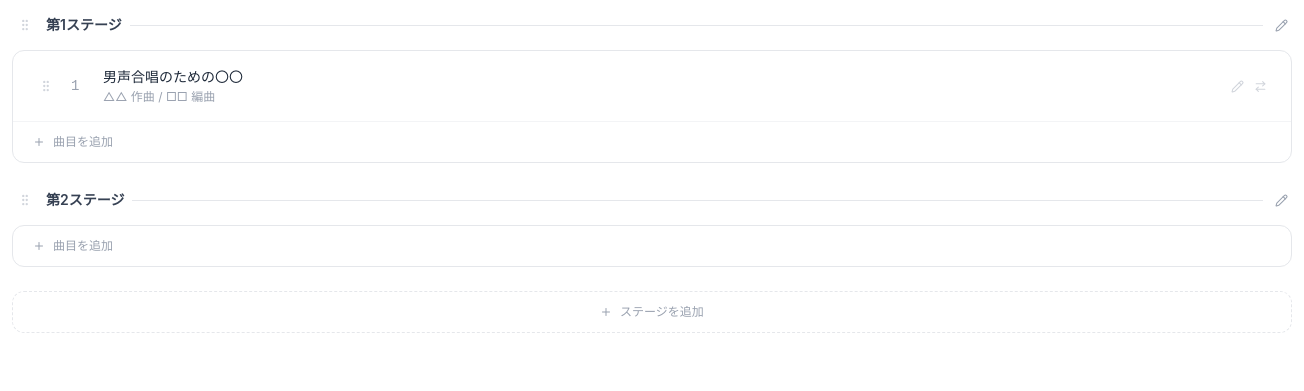
Test case: StagesTab（ステージ名インライン編集） › 保存に失敗したら入力欄の下に理由を出し、入力した名前を残す
The image size is (1304, 391).
Click the button named "第1ステージの名前を編集" at (1282, 25), box top-left (1271, 14), bottom-right (1292, 36)
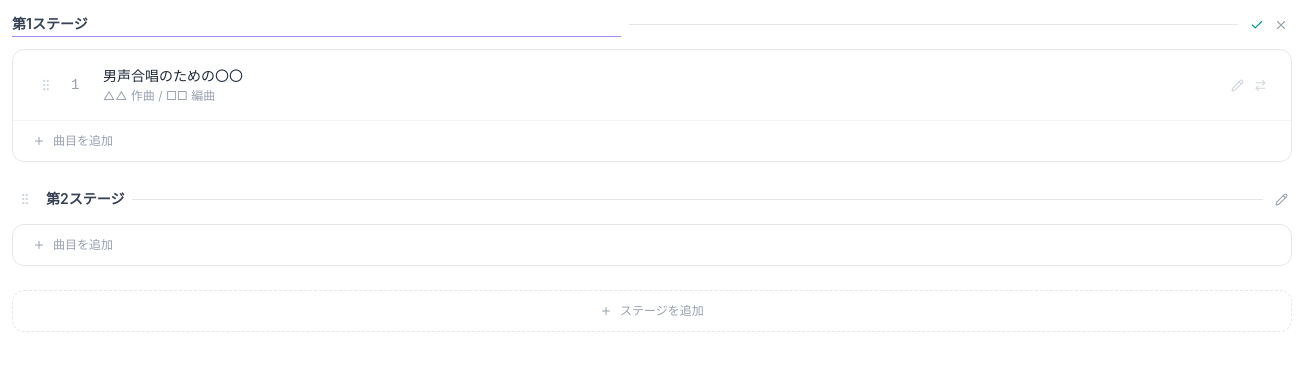
Type "改" into the field named "ステージ名" at (316, 24), box top-left (12, 12), bottom-right (621, 37)
Then press Enter
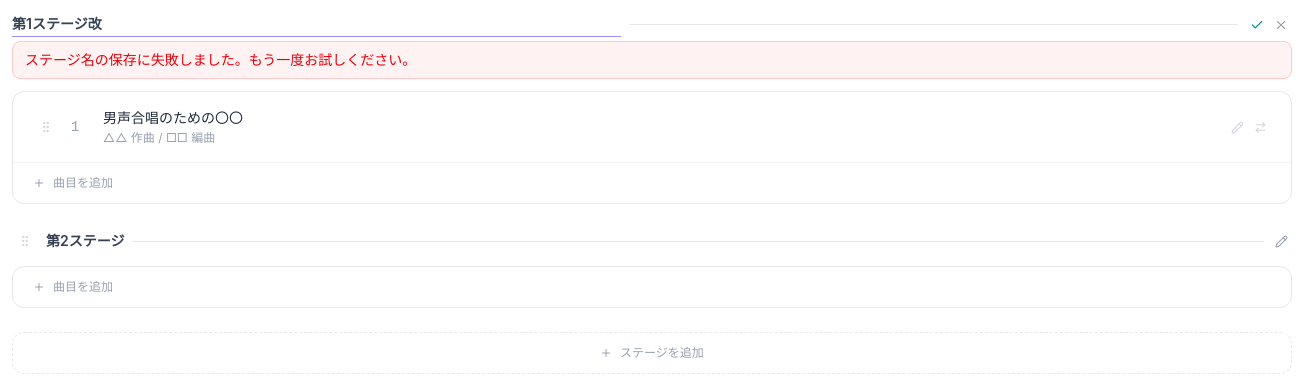
Expected: the message reads "ステージ名の保存に失敗しました。もう一度お試しください。", top-left (25, 51), bottom-right (416, 68)
Expected: the field named "ステージ名" holds "第1ステージ改", top-left (12, 12), bottom-right (621, 37)
